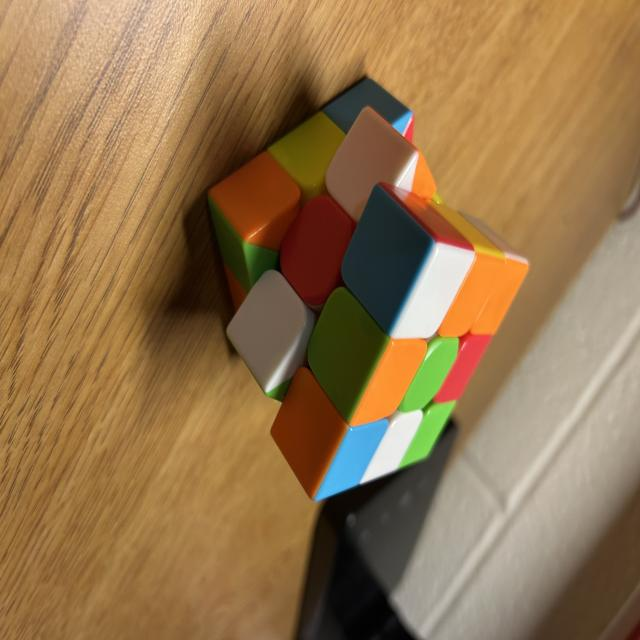Rubiks Cube: (207, 78, 529, 503)
